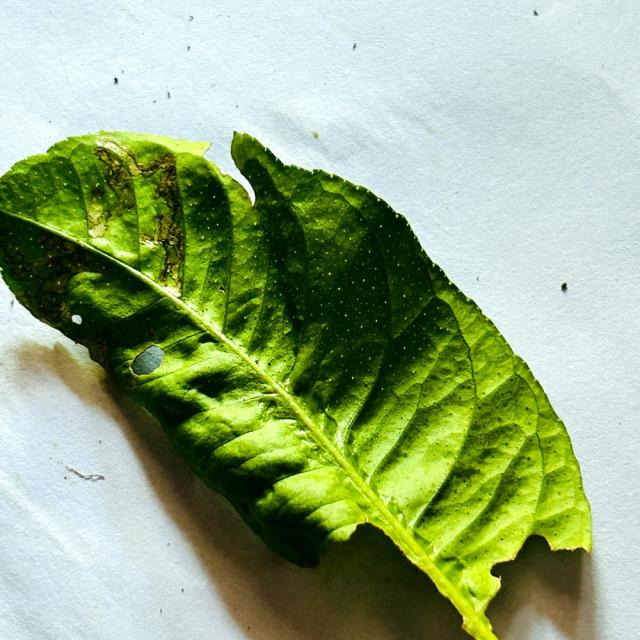Deficiency Leaf: (306, 525, 472, 639), (486, 536, 594, 639), (196, 142, 254, 205), (58, 296, 98, 344), (130, 344, 168, 381)
Lemon: (0, 132, 591, 639)
